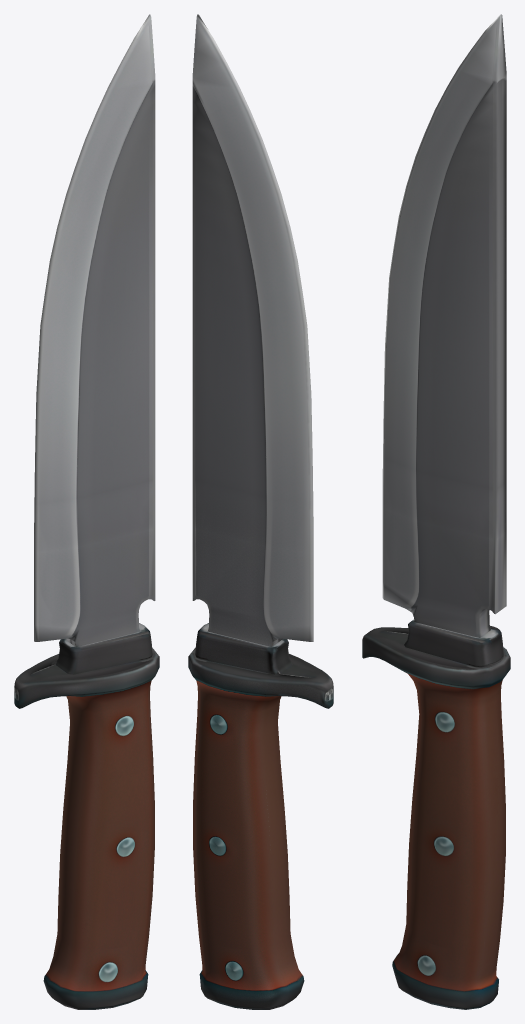
The model's file is wolf_scout_dagger_textured.fbx.
The picture shows the model from 3 angles, left to right: view 1: azimuth 30°, elevation 25°; view 2: azimuth 150°, elevation 25°; view 3: azimuth 330°, elevation 25°; orthographic projection. The views are drawn at different scales.
Visible parts, largest first — view 1: tripo_2d88ee2c_24e6_42db_a44c_c9dbb7d63582; view 2: tripo_2d88ee2c_24e6_42db_a44c_c9dbb7d63582; view 3: tripo_2d88ee2c_24e6_42db_a44c_c9dbb7d63582.
Boxes of the visible parts, x1,y1,x2,y2 form: tripo_2d88ee2c_24e6_42db_a44c_c9dbb7d63582: (14,14,159,1009); tripo_2d88ee2c_24e6_42db_a44c_c9dbb7d63582: (188,14,333,1009); tripo_2d88ee2c_24e6_42db_a44c_c9dbb7d63582: (362,14,510,1009).
Bounding box in the file's own units: 0.1479 × 0.9995 × 0.0767.
Materials: 1 (1 with a texture image).
